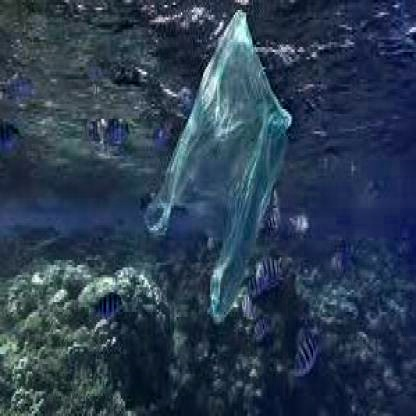pbag: (143, 10, 292, 322)
